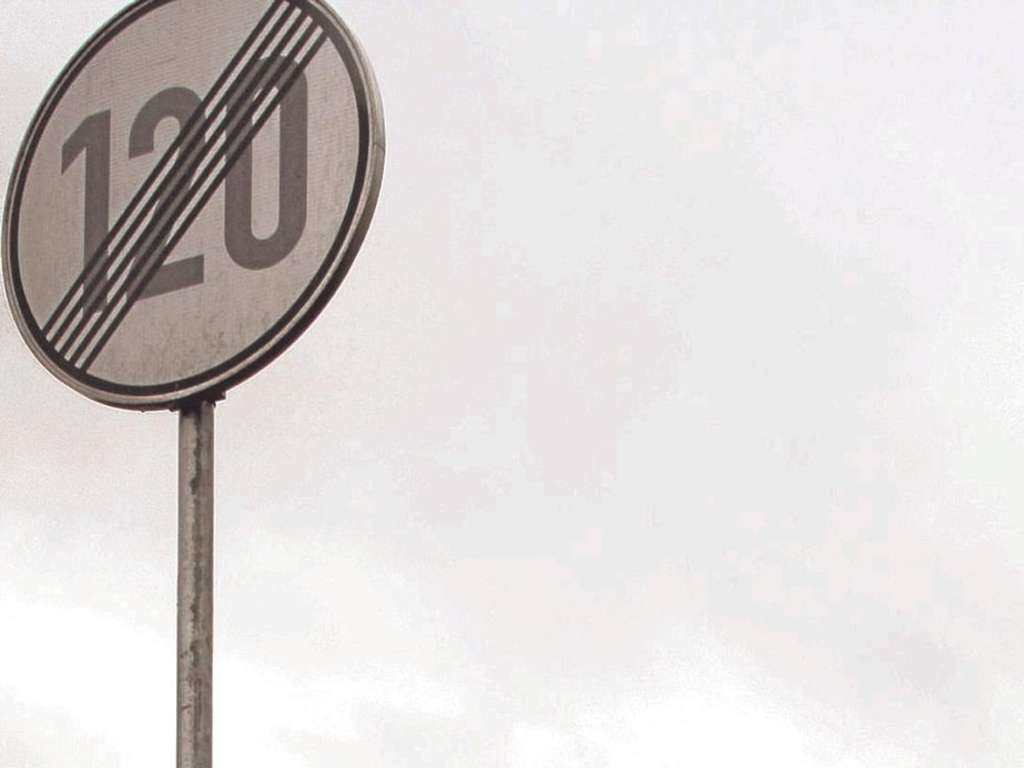aufgehoben: (1, 1, 388, 413)
